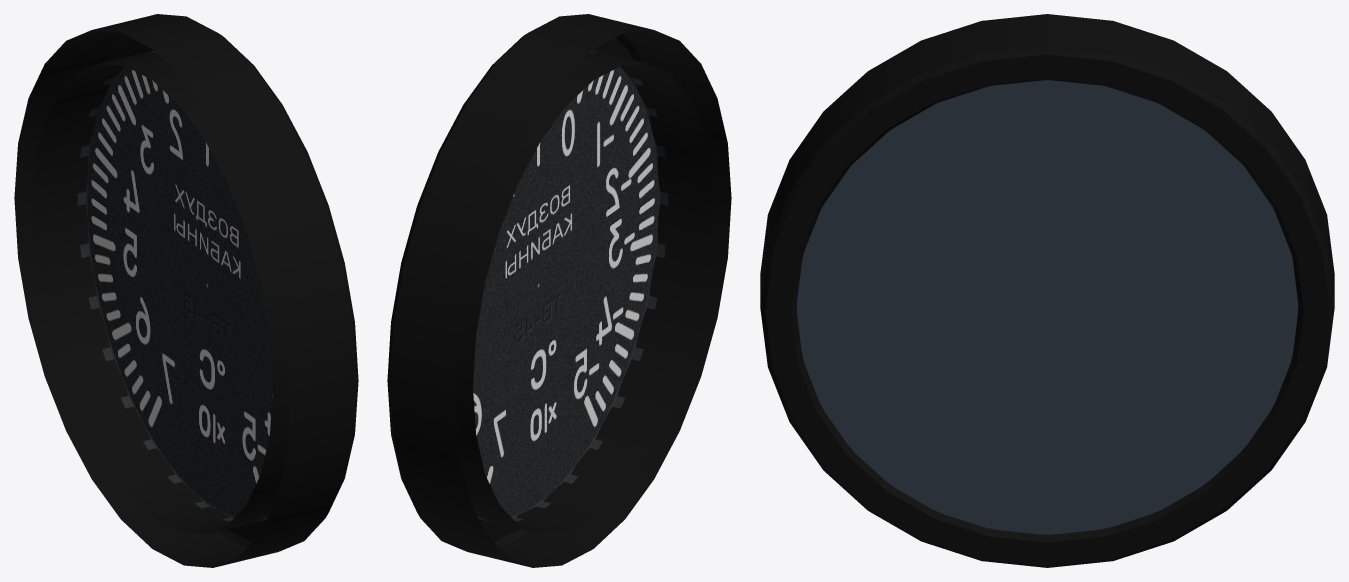
File: res_prib3.fbx
The picture shows the model from 3 angles, left to right: view 1: azimuth 30°, elevation 25°; view 2: azimuth 150°, elevation 25°; view 3: azimuth 270°, elevation 25°; orthographic projection. The views are drawn at different scales.
Visible parts, largest first — view 1: korpus017, Circle034; view 2: korpus017, Circle034; view 3: steklo, korpus017.
Boxes of the visible parts, x1=… form: korpus017: x1=14, y1=14, x2=358, y2=567; Circle034: x1=77, y1=51, x2=272, y2=521; korpus017: x1=387, y1=14, x2=731, y2=567; Circle034: x1=473, y1=51, x2=668, y2=521; steklo: x1=796, y1=80, x2=1298, y2=534; korpus017: x1=760, y1=14, x2=1334, y2=567.
Bounding box in the file's own units: 10 × 67.57 × 67.57.
5 materials, 3 textured.
